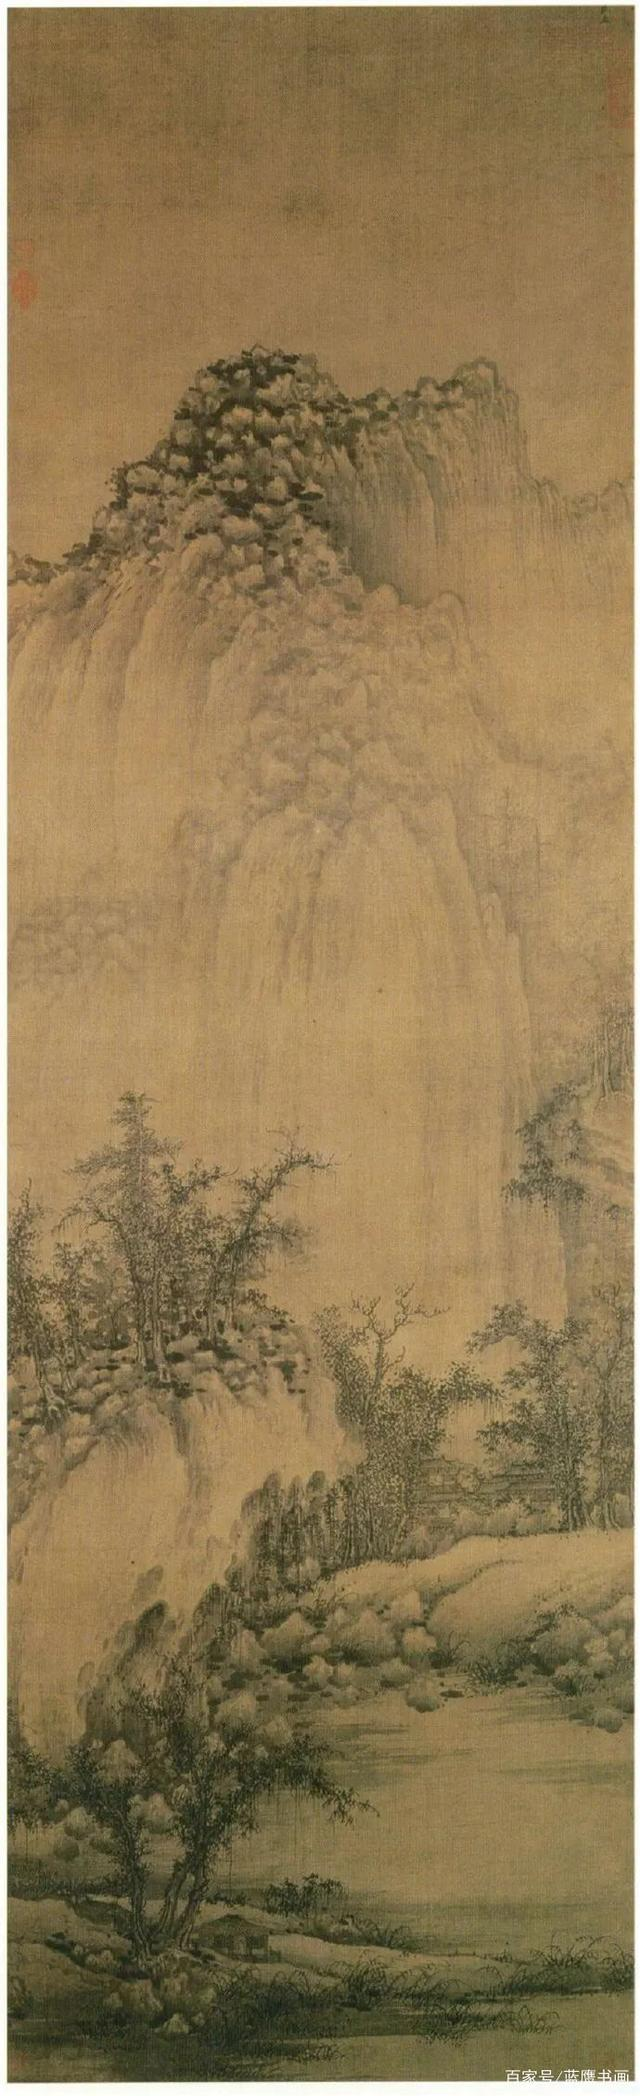house: (417, 1454, 550, 1524)
mountain: (55, 353, 591, 1287)
river: (261, 1664, 640, 1968)
tree: (84, 1103, 286, 1366), (59, 1710, 259, 1956), (533, 1311, 623, 1523), (339, 1315, 399, 1576), (9, 1199, 76, 1417)
